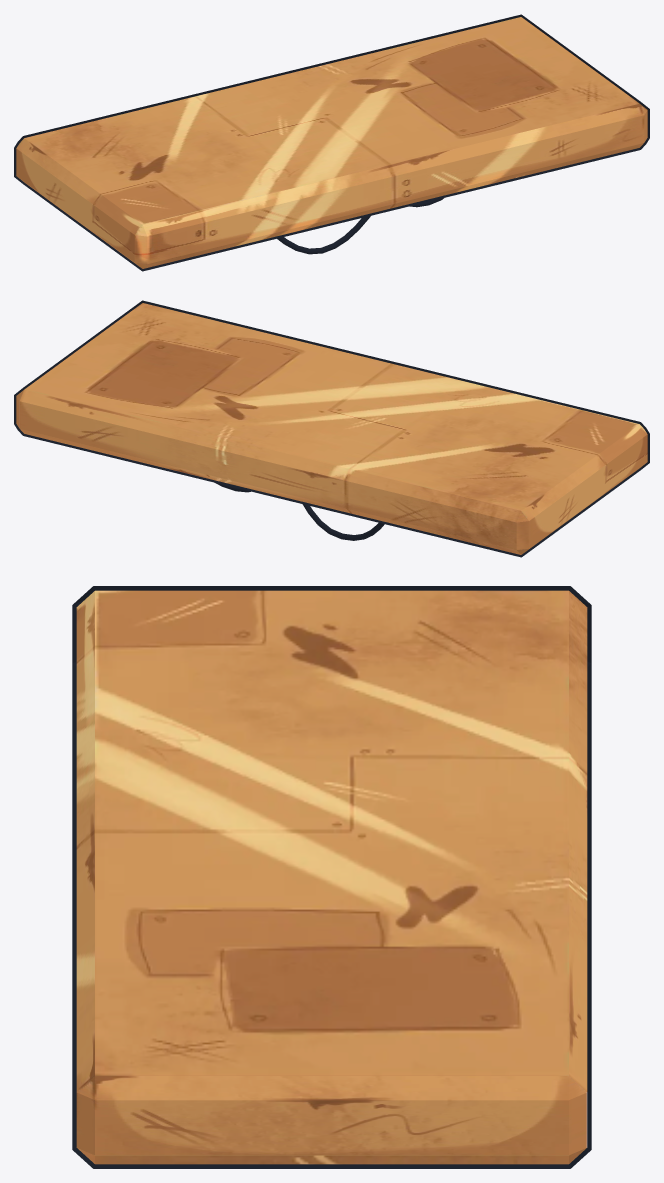
File: basic_platform.glb
The picture shows the model from 3 angles, top to bottom: view 1: azimuth 30°, elevation 25°; view 2: azimuth 150°, elevation 25°; view 3: azimuth 270°, elevation 25°; orthographic projection. The views are drawn at different scales.
Visible parts, largest first — view 1: plateforme basique, plateforme basique border, fil plateforme basique.001; view 2: plateforme basique, plateforme basique border, fil plateforme basique.001; view 3: plateforme basique, plateforme basique border.
Boxes of the visible parts, <box> form: plateforme basique: <box>16,17,647,268</box>; plateforme basique border: <box>14,14,649,271</box>; fil plateforme basique.001: <box>277,216,370,254</box>; plateforme basique: <box>16,303,647,554</box>; plateforme basique border: <box>14,300,649,557</box>; fil plateforme basique.001: <box>302,504,384,540</box>; plateforme basique: <box>76,590,587,1164</box>; plateforme basique border: <box>72,586,591,1168</box>.
Size of the model in its own units: 1.81 by 0.4426 by 0.79.
2 materials, 1 textured.
